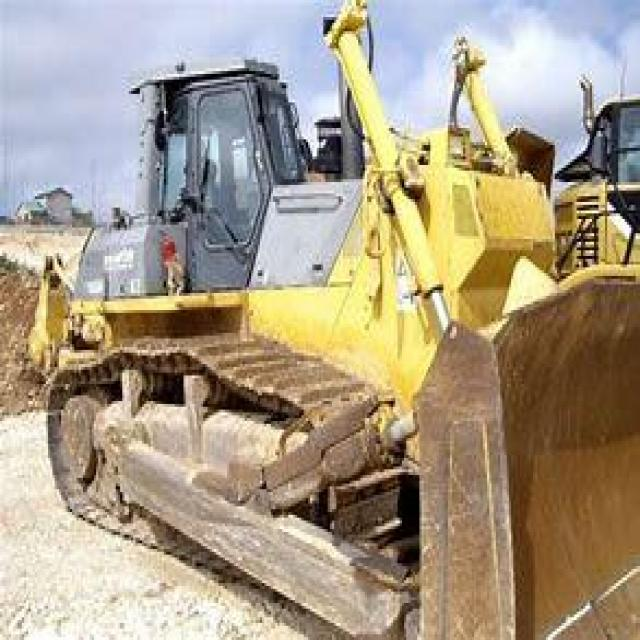Bulldozer: (30, 31, 638, 637)
